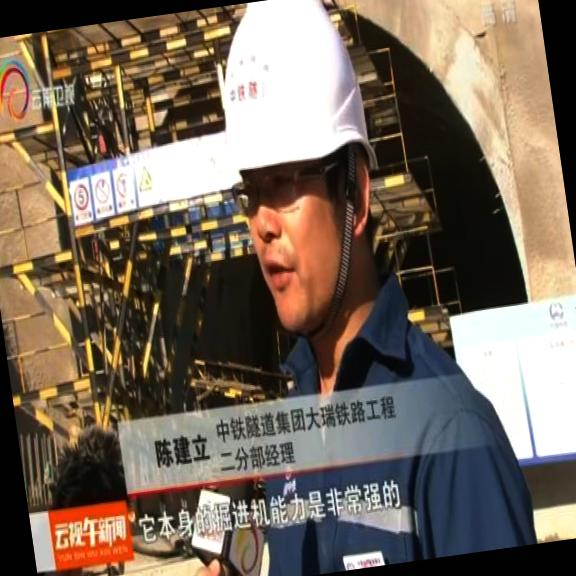no_safety_vest: (211, 268, 525, 576)
